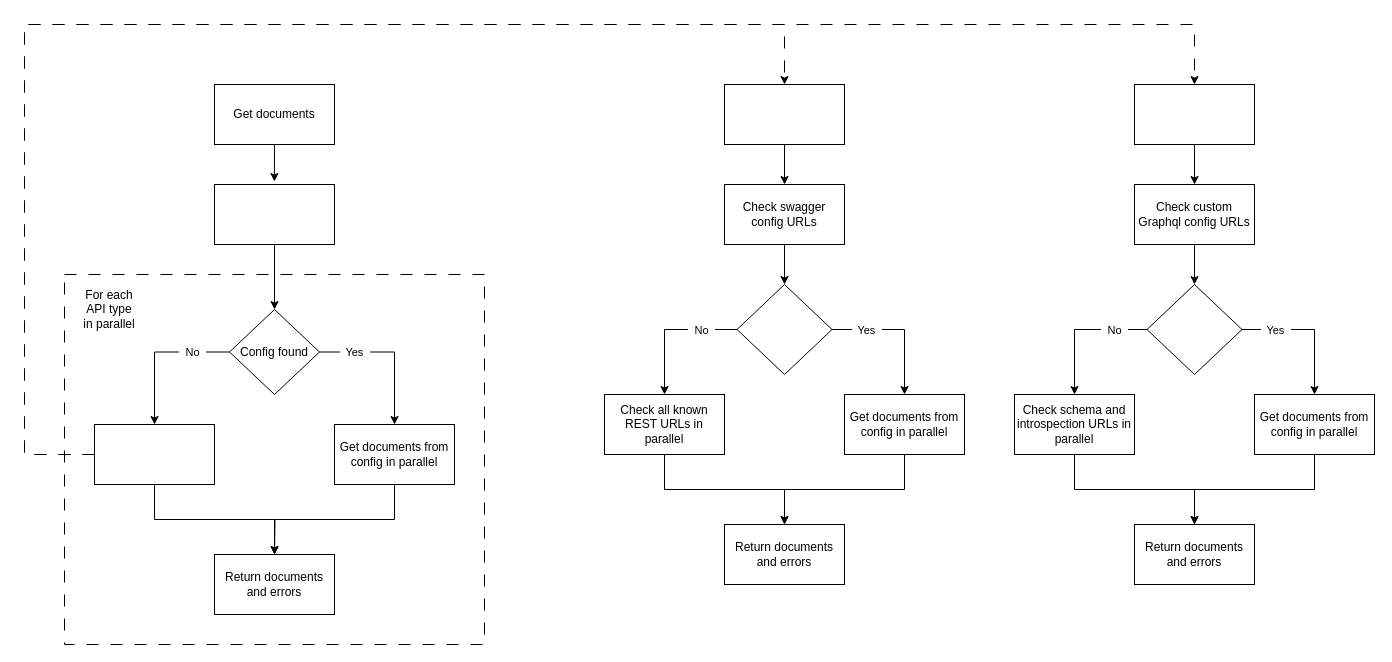
The diagram is 1392 pixels wide and 662 high, and some of its shapes have lost their labels. Here are the shapes that lost their labels. From the top down, the centre of each, then its label:
At point 784,114: "Discover documents for REST".
At point 1194,114: "Discover documents for Graphql".
At point 274,214: "Get Apihub config (from default or custom URLs)".
At point 784,329: "Swagger config found".
At point 1194,329: "Custom config found".
At point 154,454: "Discover documents (implementation depends on API type)".
